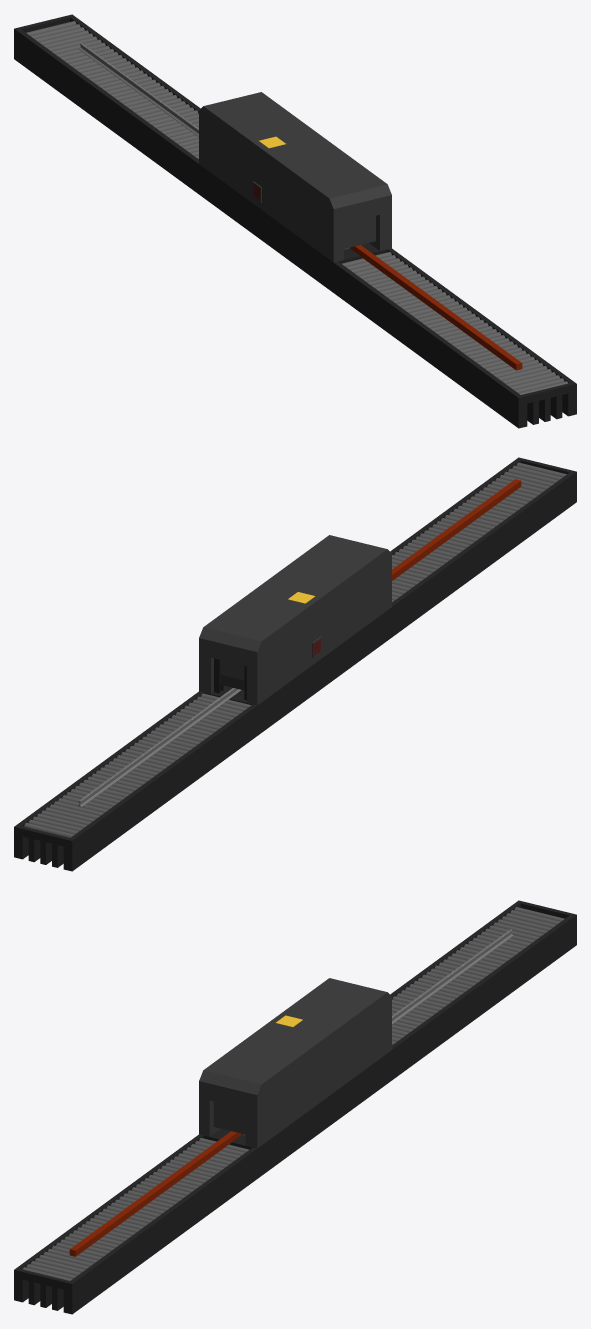
File: Rail Machine.dae
3 renders of one model, top to bottom at view 1: azimuth 30°, elevation 25°; view 2: azimuth 150°, elevation 25°; view 3: azimuth 330°, elevation 25°, orthographic.
Visible parts, largest first — view 1: group_1 (×2), group_90, INPUT_CAST, OUTPUT_RAIL, group_89; view 2: group_1 (×2), group_90, INPUT_CAST, OUTPUT_RAIL, BLADE_2; view 3: group_1 (×2), group_90, INPUT_CAST, OUTPUT_RAIL, group_89.
Boxes of the visible parts, x1,y1,x2,y2 form: group_1 (×2): (14,14,576,428); group_90: (199,92,391,262); INPUT_CAST: (350,245,522,370); OUTPUT_RAIL: (79,44,198,136); group_89: (344,215,375,248); group_1 (×2): (14,457,576,871); group_90: (199,535,391,705); INPUT_CAST: (392,479,521,580); OUTPUT_RAIL: (77,688,241,807); BLADE_2: (220,660,244,690); group_1 (×2): (14,900,576,1314); group_90: (199,978,391,1148); INPUT_CAST: (69,1131,241,1256); OUTPUT_RAIL: (392,930,513,1024); group_89: (213,1101,245,1134).
Bounding box in the file's own units: 80.43 × 1181 × 119.
